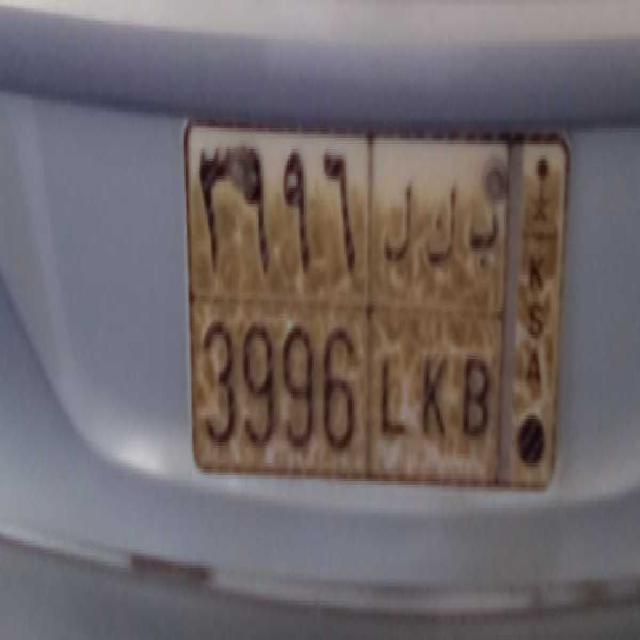license_plate: (188, 295, 496, 485)
